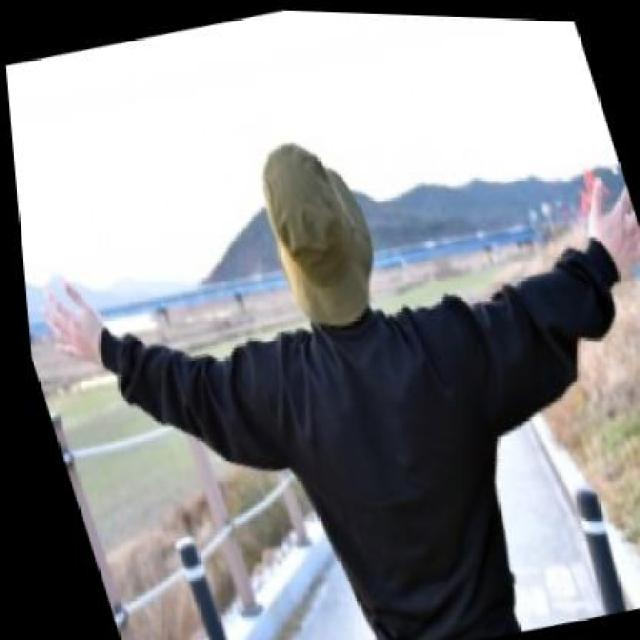hat: (238, 120, 394, 334)
